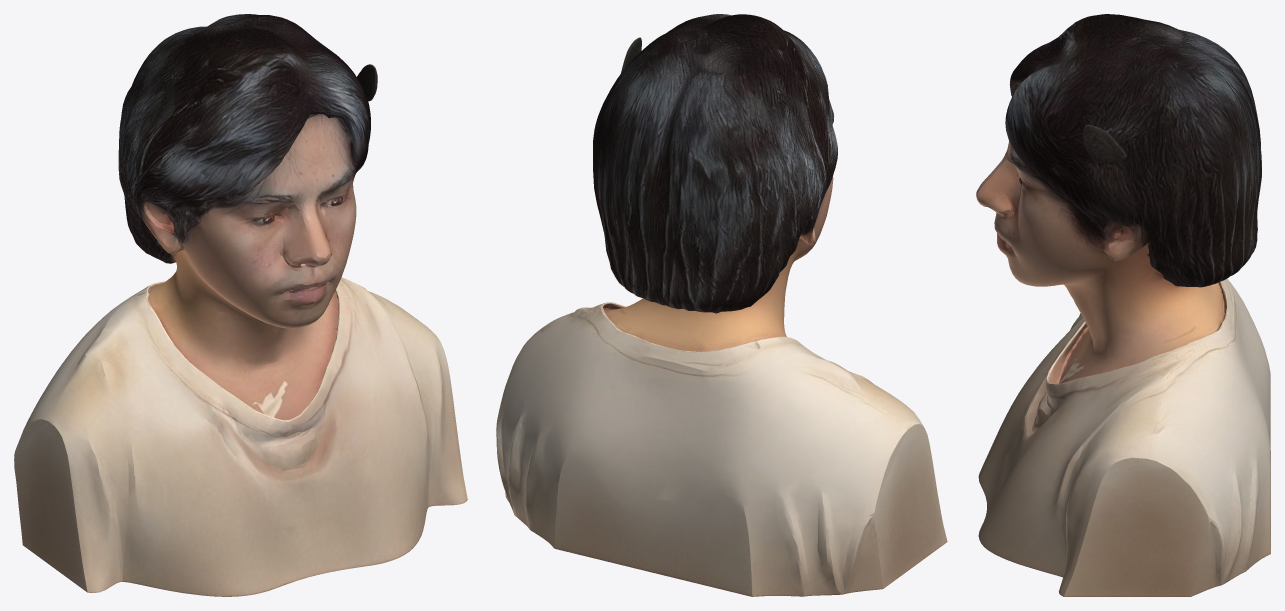
File: jade-bust.glb
3 renders of one model, left to right at view 1: azimuth 30°, elevation 25°; view 2: azimuth 150°, elevation 25°; view 3: azimuth 270°, elevation 25°, orthographic. The views are drawn at different scales.
Visible parts, largest first — view 1: model; view 2: model; view 3: model.
Part boxes in pixels (x1,y1,x2,y2): model: (14,14,467,596); model: (496,14,947,596); model: (976,14,1270,596).
Size of the model in its own units: 1.53 by 1.9 by 1.05.
Materials: 1 (1 with a texture image).
